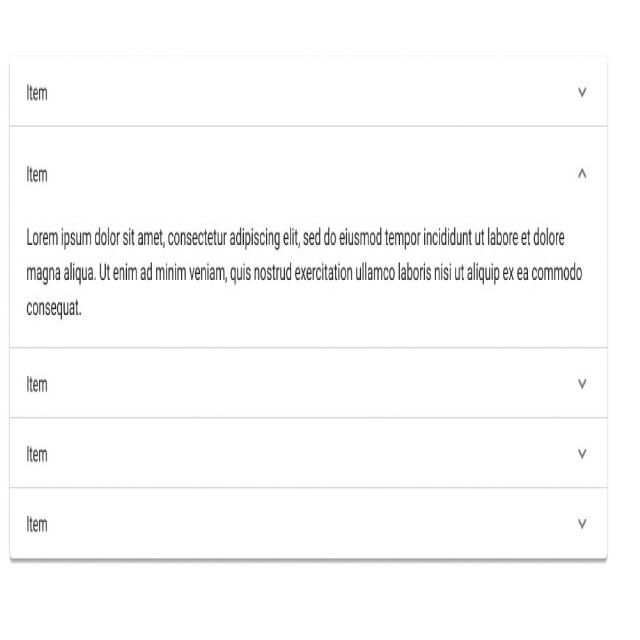VExpansionPanels: (9, 54, 608, 563)
